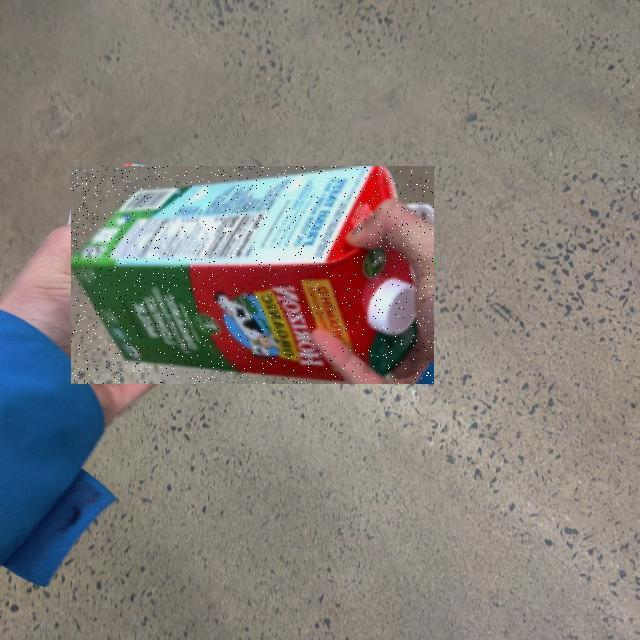milk: (0, 192, 288, 576)
